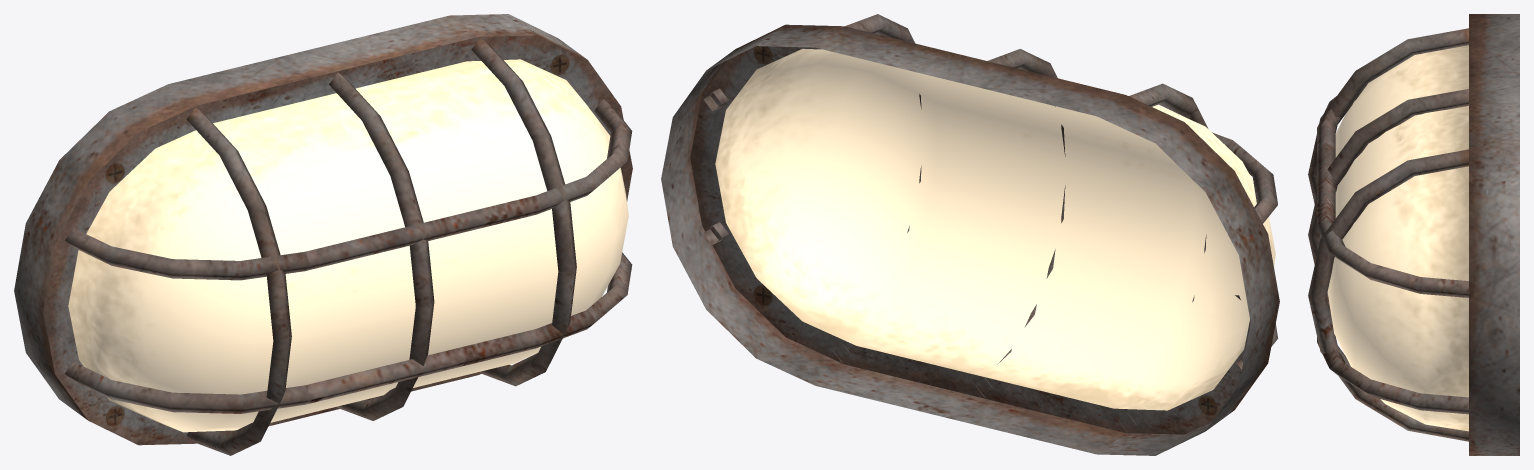
3 renders of one model, left to right at view 1: azimuth 30°, elevation 25°; view 2: azimuth 150°, elevation 25°; view 3: azimuth 270°, elevation 25°, orthographic. The views are drawn at different scales.
Visible parts, largest first — view 1: LowPoly; view 2: LowPoly; view 3: LowPoly.
Part boxes in pixels (x1,y1,x2,y2): LowPoly: [14, 14, 632, 455]; LowPoly: [661, 14, 1279, 455]; LowPoly: [1308, 14, 1519, 455].
Bounding box in the file's own units: 25.33 × 13.88 × 9.05.
1 material, 1 textured.
